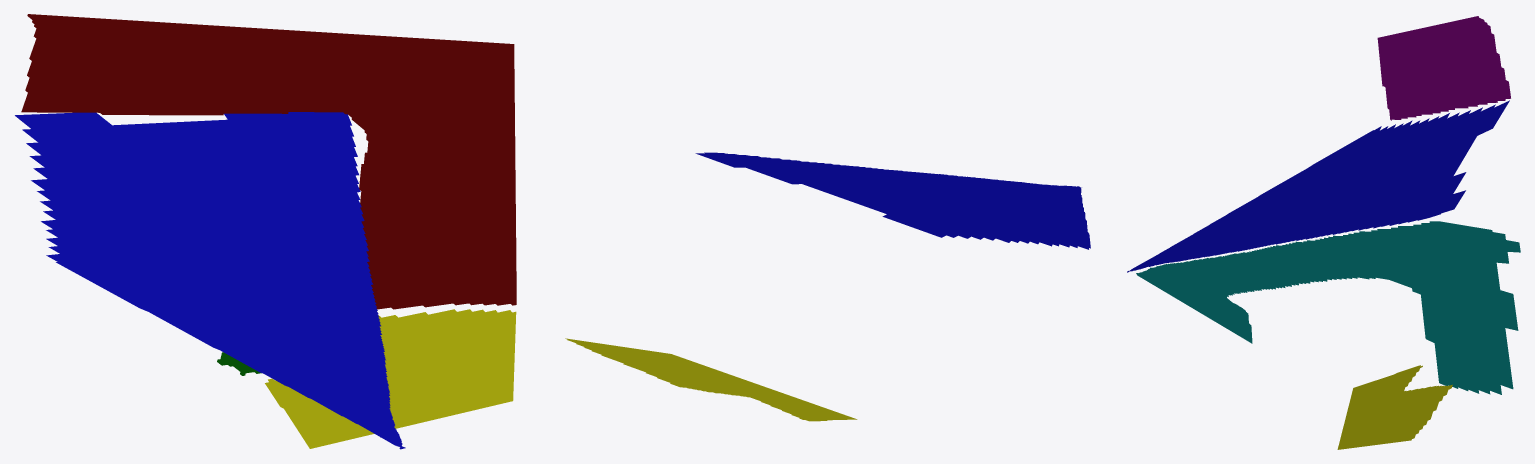
Rendered from 136_seg_predplane.glb.
The picture shows the model from 3 angles, left to right: view 1: azimuth 30°, elevation 25°; view 2: azimuth 150°, elevation 25°; view 3: azimuth 270°, elevation 25°; orthographic projection. The views are drawn at different scales.
Bounding box in the file's own units: 2.67 × 2.09 × 2.44.
